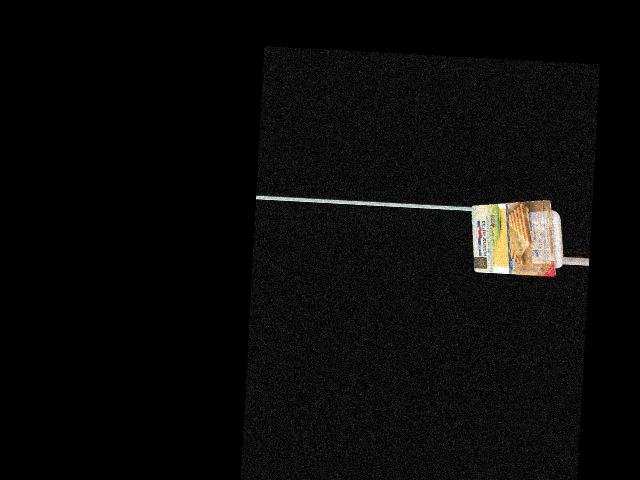cheese: (469, 198, 566, 274)
